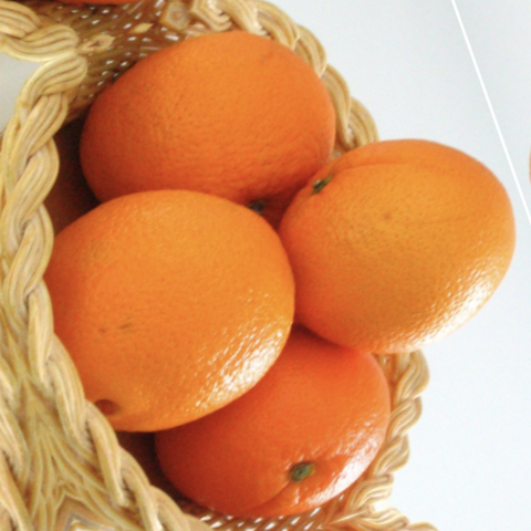orange: (0, 135, 360, 483), (51, 0, 370, 274), (263, 88, 531, 378), (162, 291, 436, 531)
